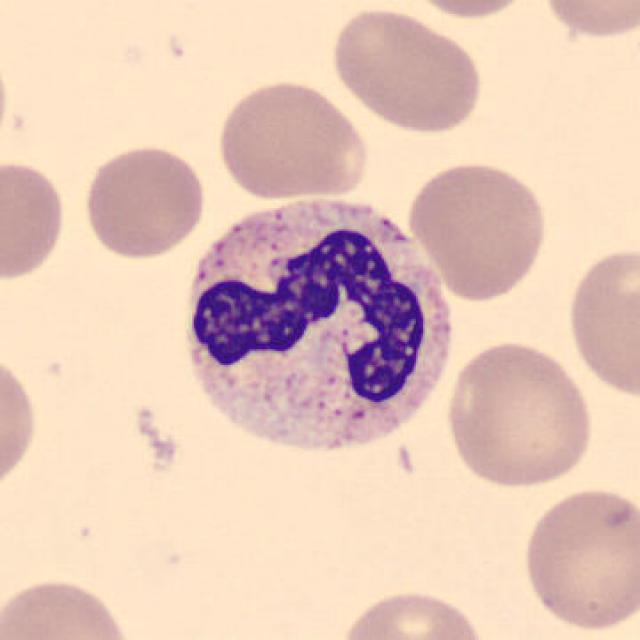Neutrophil: (169, 188, 462, 471)
RBC: (441, 337, 597, 492), (404, 157, 551, 303), (327, 4, 485, 136), (212, 76, 372, 203), (518, 483, 638, 635), (78, 141, 210, 261), (562, 240, 640, 402), (2, 571, 142, 640), (0, 155, 69, 283), (334, 585, 491, 640), (0, 346, 43, 500), (535, 0, 638, 42), (398, 0, 542, 21), (0, 46, 11, 166)
